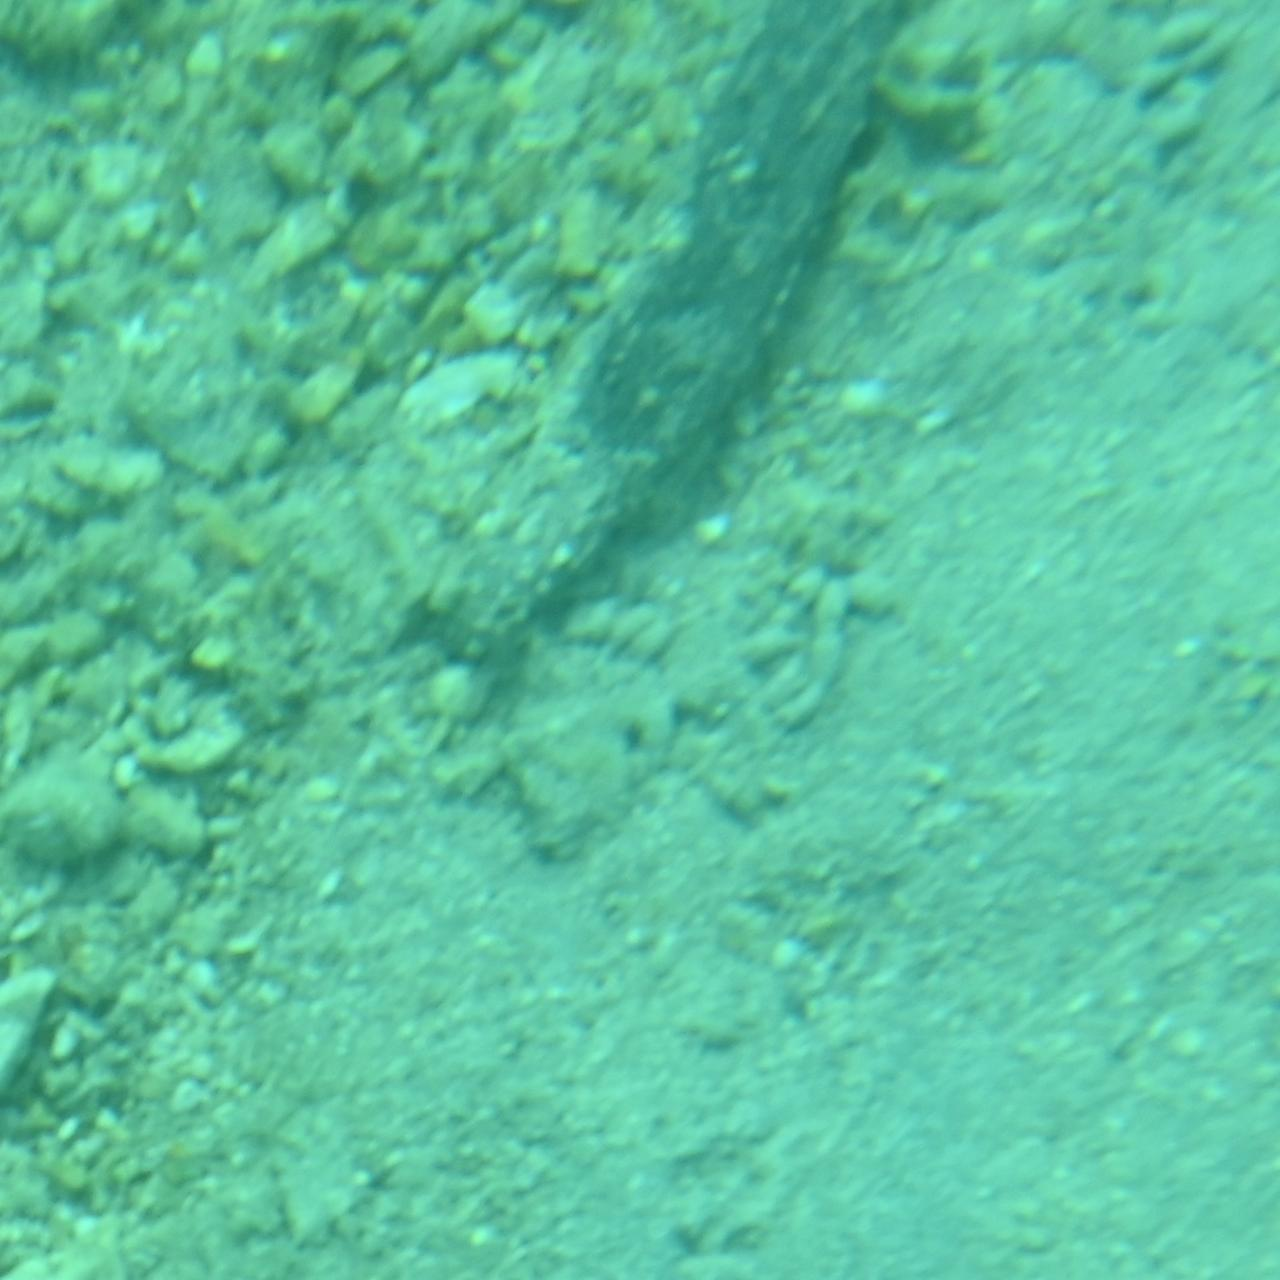Holothuria tubulosa: (390, 0, 890, 722)
